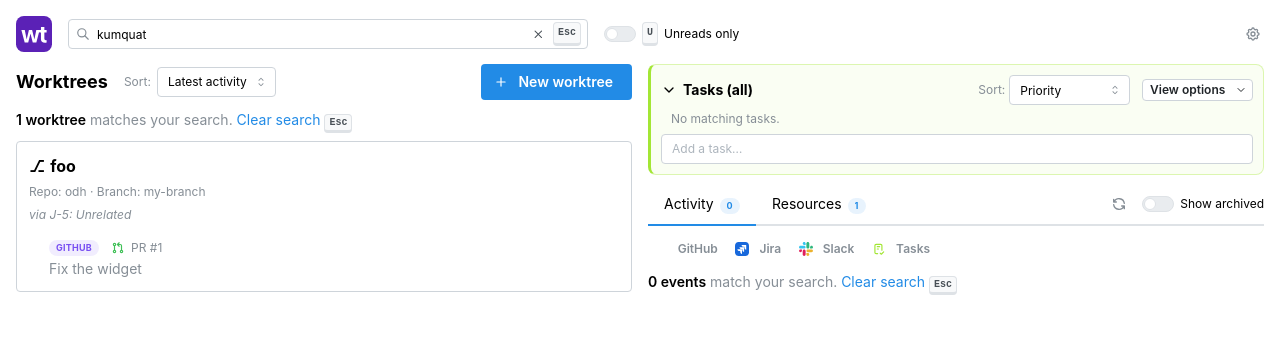
Scenario: HomePage search › does not match a card through a resource the source filter excludes
Check: the text "Repo: odh · Branch: my-branch" is shown, box [29,184,206,199]
Step 1. Click the button "GitHub" → (687, 249), box [648,238,726,260]
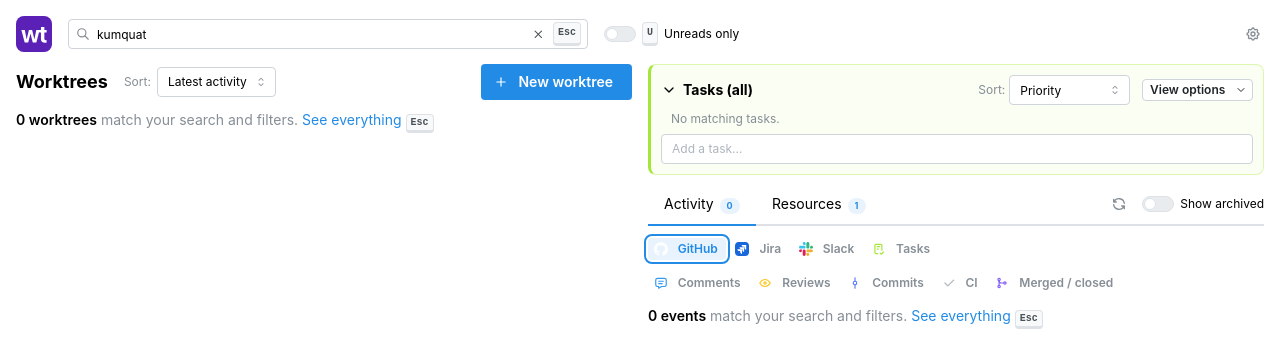
Check: the link "my-branch" is gone
